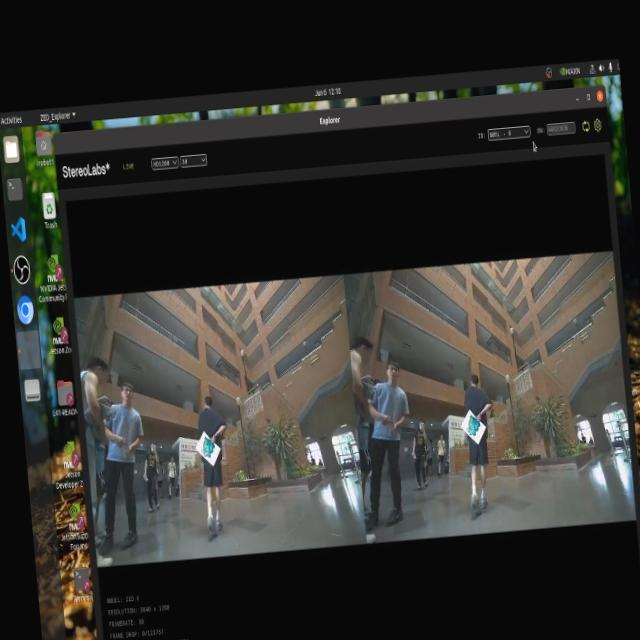green: (463, 409, 481, 444), (198, 436, 222, 458)
